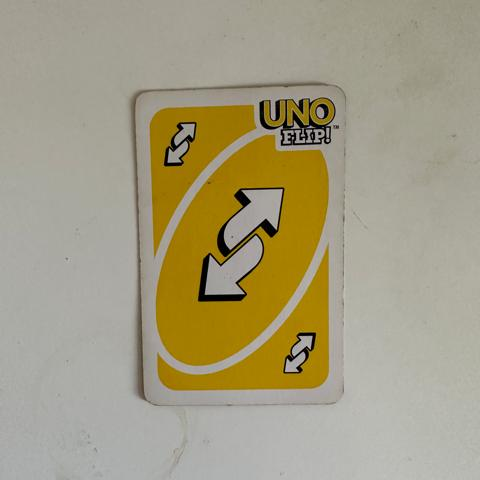lyellowrevers-20: (144, 102, 211, 185)
